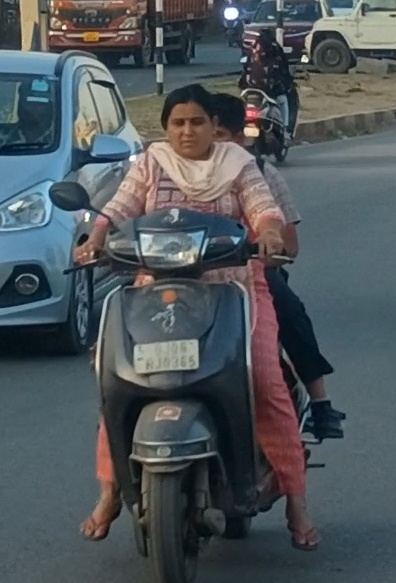BikeWithRider: (44, 79, 347, 583), (231, 26, 318, 175)
NoHelmet: (160, 81, 223, 160), (203, 93, 256, 153), (255, 27, 277, 47)
